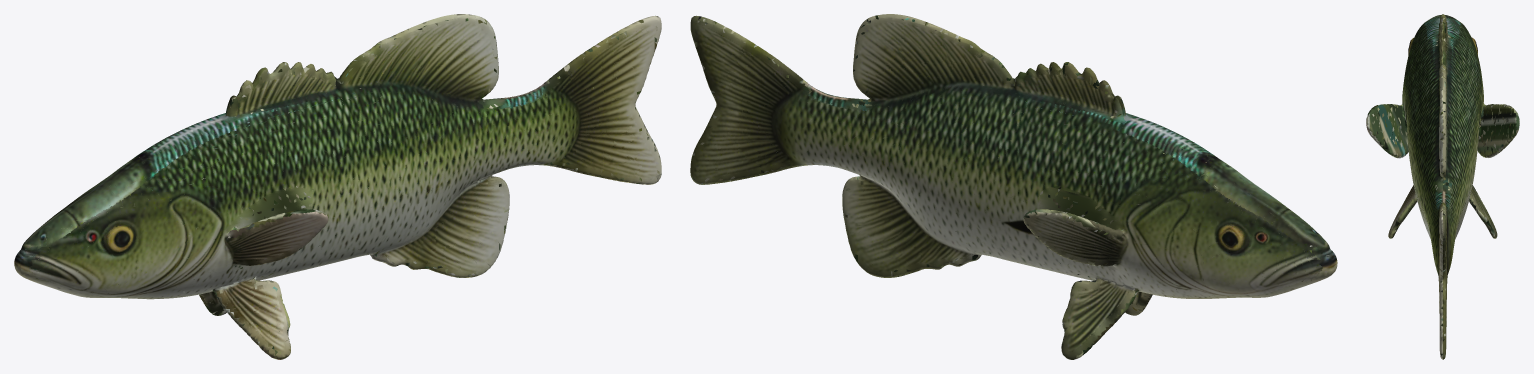
The model's file is bass2.glb.
The picture shows the model from 3 angles, left to right: view 1: azimuth 30°, elevation 25°; view 2: azimuth 150°, elevation 25°; view 3: azimuth 270°, elevation 25°; orthographic projection. The views are drawn at different scales.
Visible parts, largest first — view 1: Mesh; view 2: Mesh; view 3: Mesh.
Part boxes in pixels (x1=…): Mesh: x1=14, y1=14, x2=661, y2=359; Mesh: x1=690, y1=14, x2=1337, y2=359; Mesh: x1=1366, y1=14, x2=1519, y2=359.
Size of the model in its own units: 1.99 by 0.8067 by 0.4778.
1 material, 1 textured.
